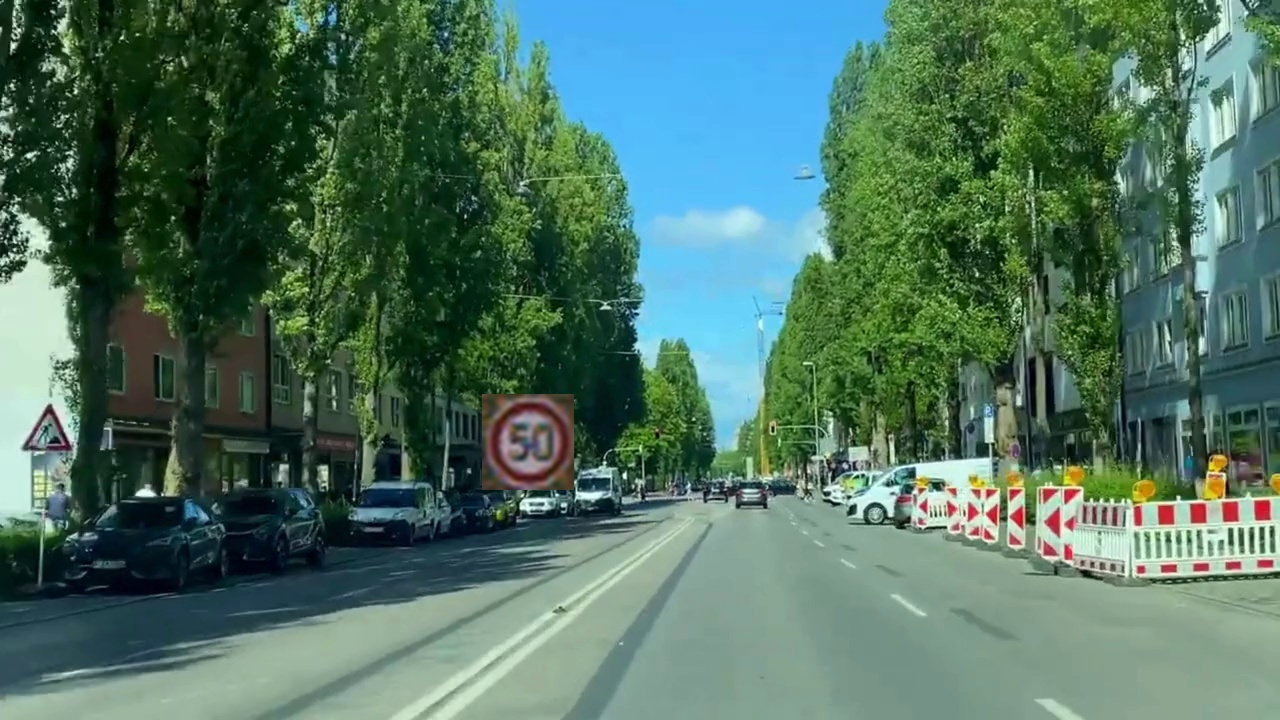Speed 50: (482, 394, 574, 490)
